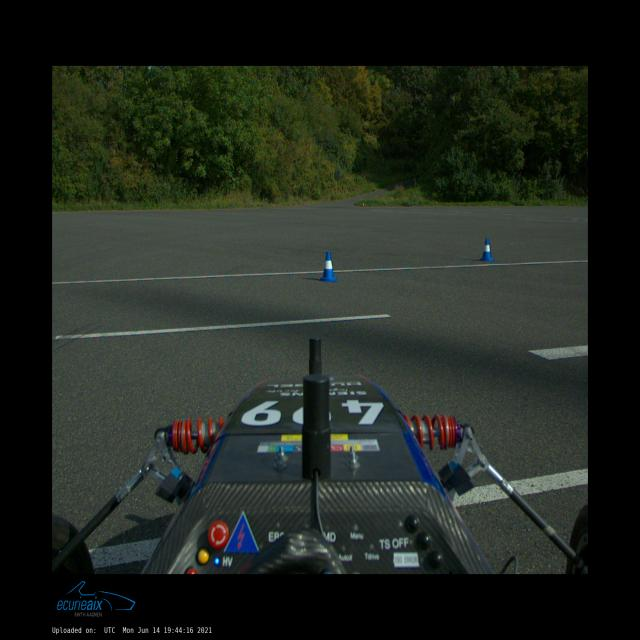blue_cone: (318, 252, 338, 281), (478, 239, 494, 261)
